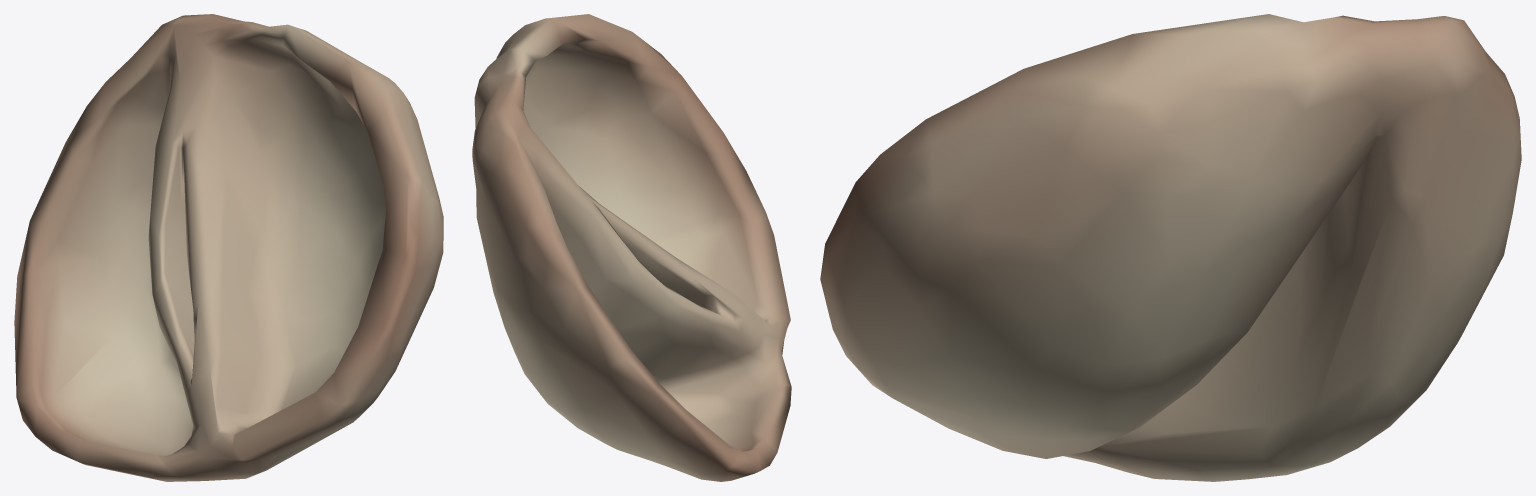
File: PassagemAorta.fbx
3 renders of one model, left to right at view 1: azimuth 30°, elevation 25°; view 2: azimuth 150°, elevation 25°; view 3: azimuth 270°, elevation 25°, orthographic. The views are drawn at different scales.
Parts seen in each view (by area): view 1: bicuspid_aortic_valve; view 2: bicuspid_aortic_valve; view 3: bicuspid_aortic_valve.
Part boxes in pixels (x1=…): bicuspid_aortic_valve: x1=14, y1=14, x2=443, y2=481; bicuspid_aortic_valve: x1=472, y1=14, x2=791, y2=481; bicuspid_aortic_valve: x1=820, y1=14, x2=1521, y2=481.
Bounding box in the file's own units: 0.1767 × 0.2042 × 0.2298.
